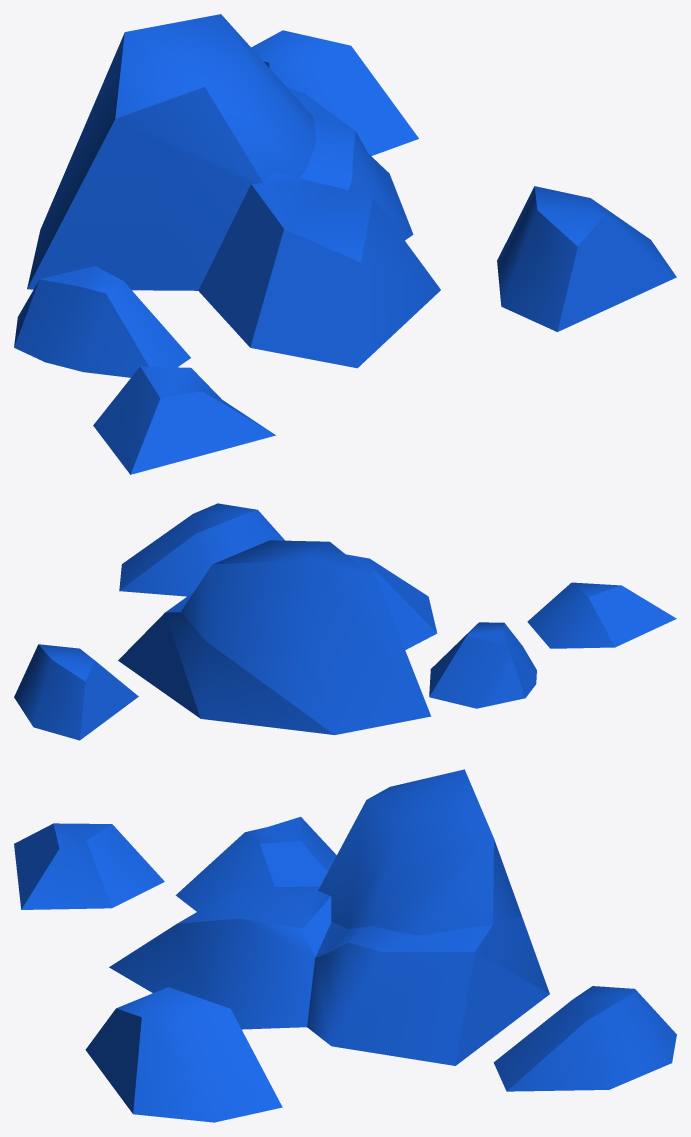
Rendered from Rubble03_mesh.fbx.
3 views of the same model, one above another, from view 1: azimuth 30°, elevation 25°; view 2: azimuth 150°, elevation 25°; view 3: azimuth 270°, elevation 25° (orthographic). The views are drawn at different scales.
Visible parts, largest first — view 1: Rubble03_mesh; view 2: Rubble03_mesh; view 3: Rubble03_mesh.
Part boxes in pixels (x1,y1,x2,y2): Rubble03_mesh: [14, 14, 676, 474]; Rubble03_mesh: [14, 503, 676, 740]; Rubble03_mesh: [14, 769, 676, 1122].
Size of the model in its own units: 355 by 108 by 357.
